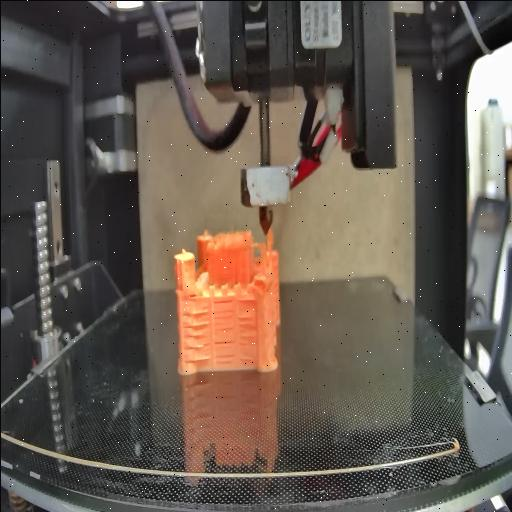cracks: (181, 308, 209, 360), (238, 314, 257, 360), (214, 296, 232, 334), (214, 340, 234, 364), (236, 294, 254, 302), (186, 290, 199, 296)
